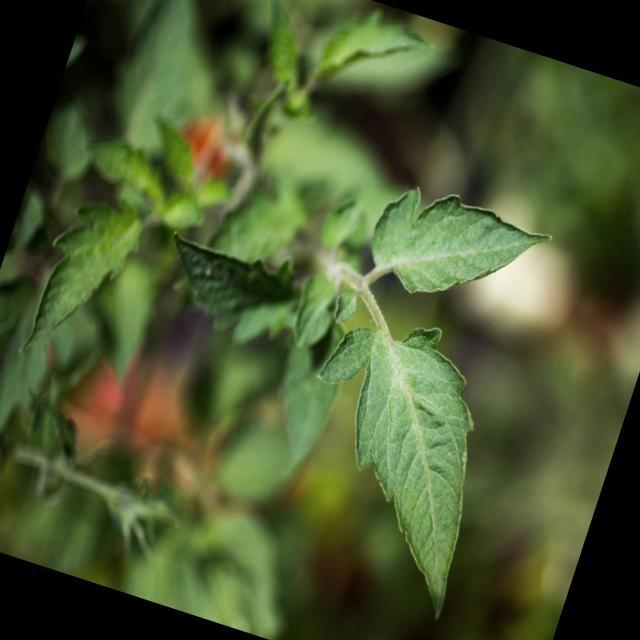Tomato healthy leaf: (254, 300, 524, 632), (339, 156, 582, 338)
